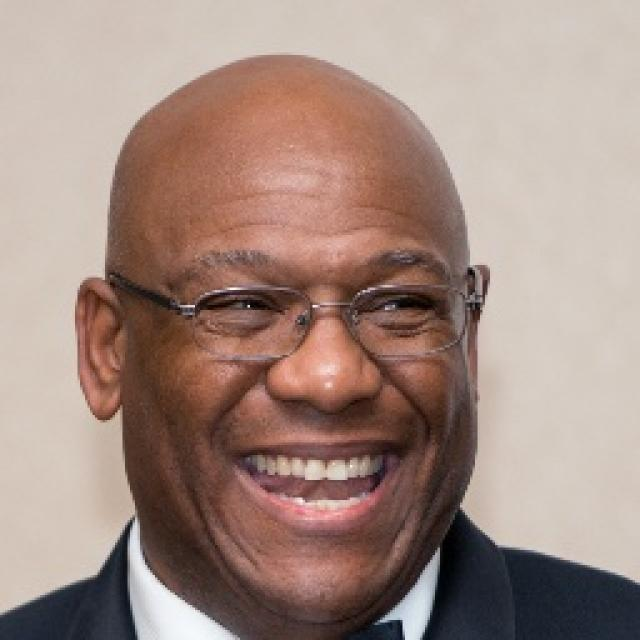earlobe: (74, 276, 123, 424)
